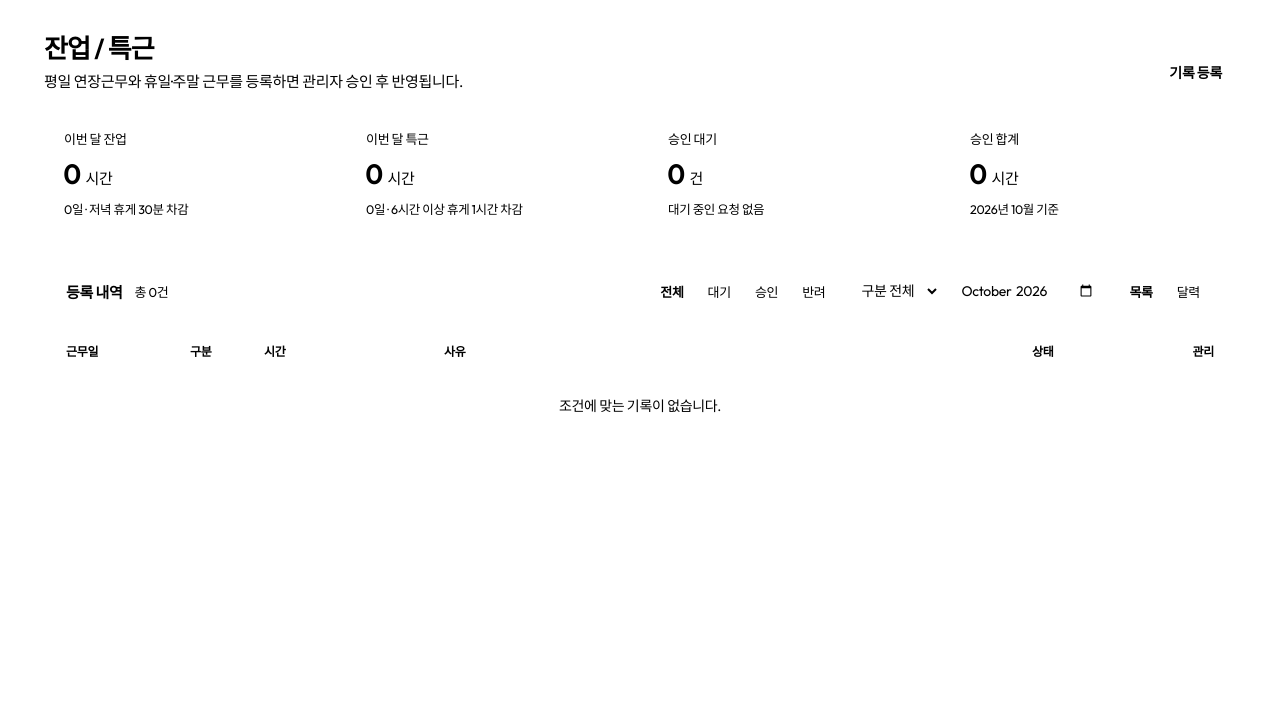
OvertimeRecordsPage — 기록 등록 › 등록 폼이 기본 근무시간으로 채워져 열린다
The width and height of the screenshot is (1280, 720).
Step 1. Click the button "기록 등록" → x=1196, y=72, box [1155,53,1236,91]
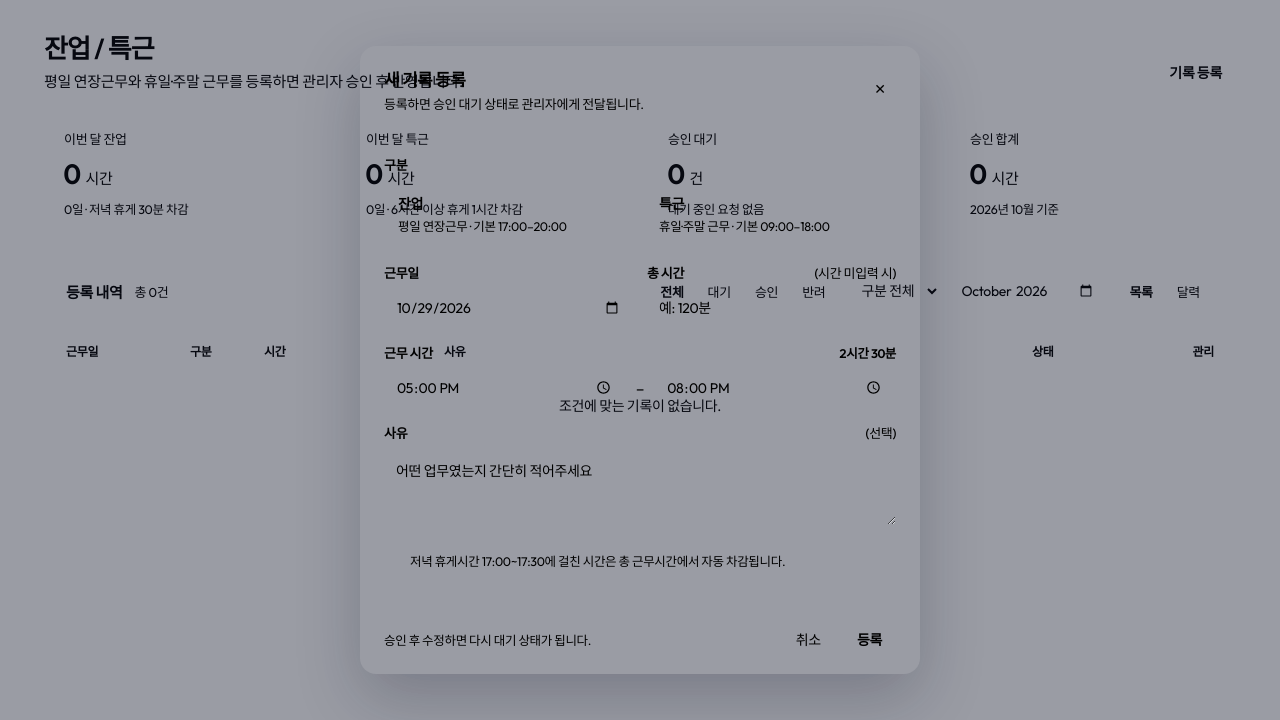
expect the text "평일 연장근무 · 기본 17:00–20:00" is shown: met, box [398,216,567,235]
expect the text "2시간 30분" is shown: met, box [839,343,896,362]
